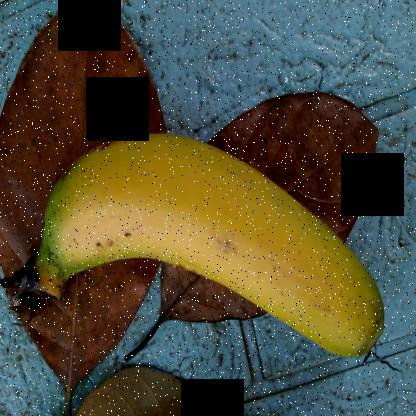freshripe: (14, 88, 397, 370)
